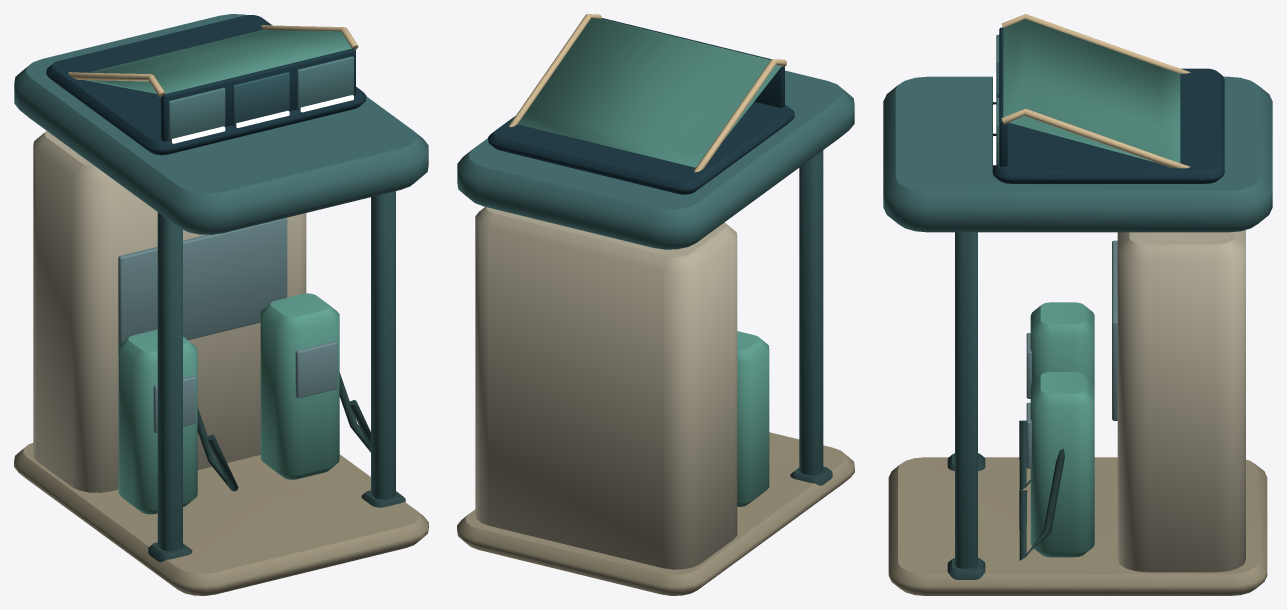
The model's file is annex_charge_4.glb.
3 renders of one model, left to right at view 1: azimuth 30°, elevation 25°; view 2: azimuth 150°, elevation 25°; view 3: azimuth 270°, elevation 25°, orthographic. The views are drawn at different scales.
Parts seen in each view (by area): view 1: AnnexCharge4; view 2: AnnexCharge4; view 3: AnnexCharge4.
Part boxes in pixels (x1=…): AnnexCharge4: x1=14, y1=14, x2=428, y2=595; AnnexCharge4: x1=457, y1=14, x2=854, y2=595; AnnexCharge4: x1=883, y1=14, x2=1272, y2=595.
Size of the model in its own units: 1.96 by 3.44 by 2.55.
